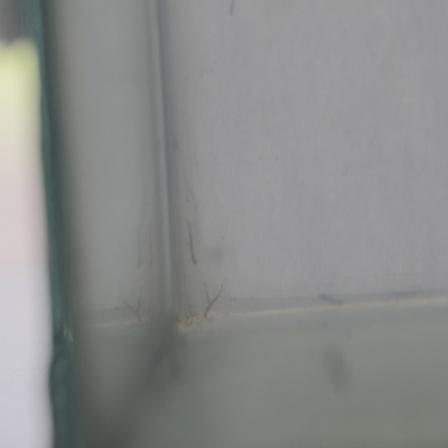Jentik-Nyamuk: (200, 276, 231, 327), (184, 217, 199, 269)
